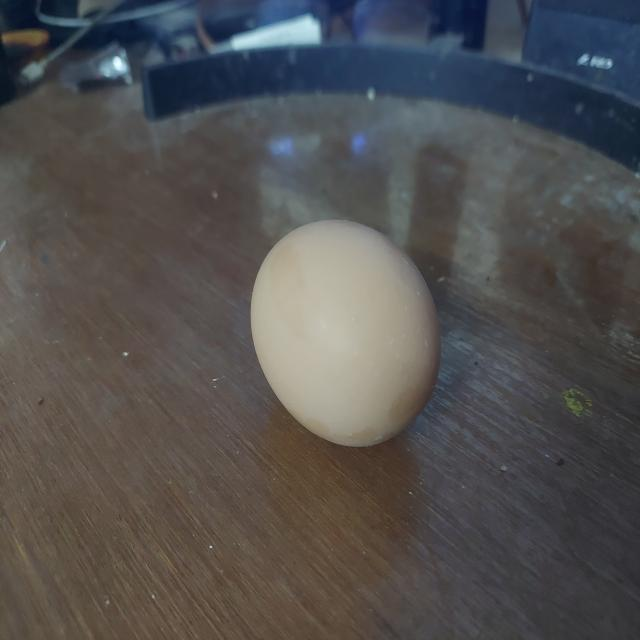egg: (244, 213, 447, 457)
